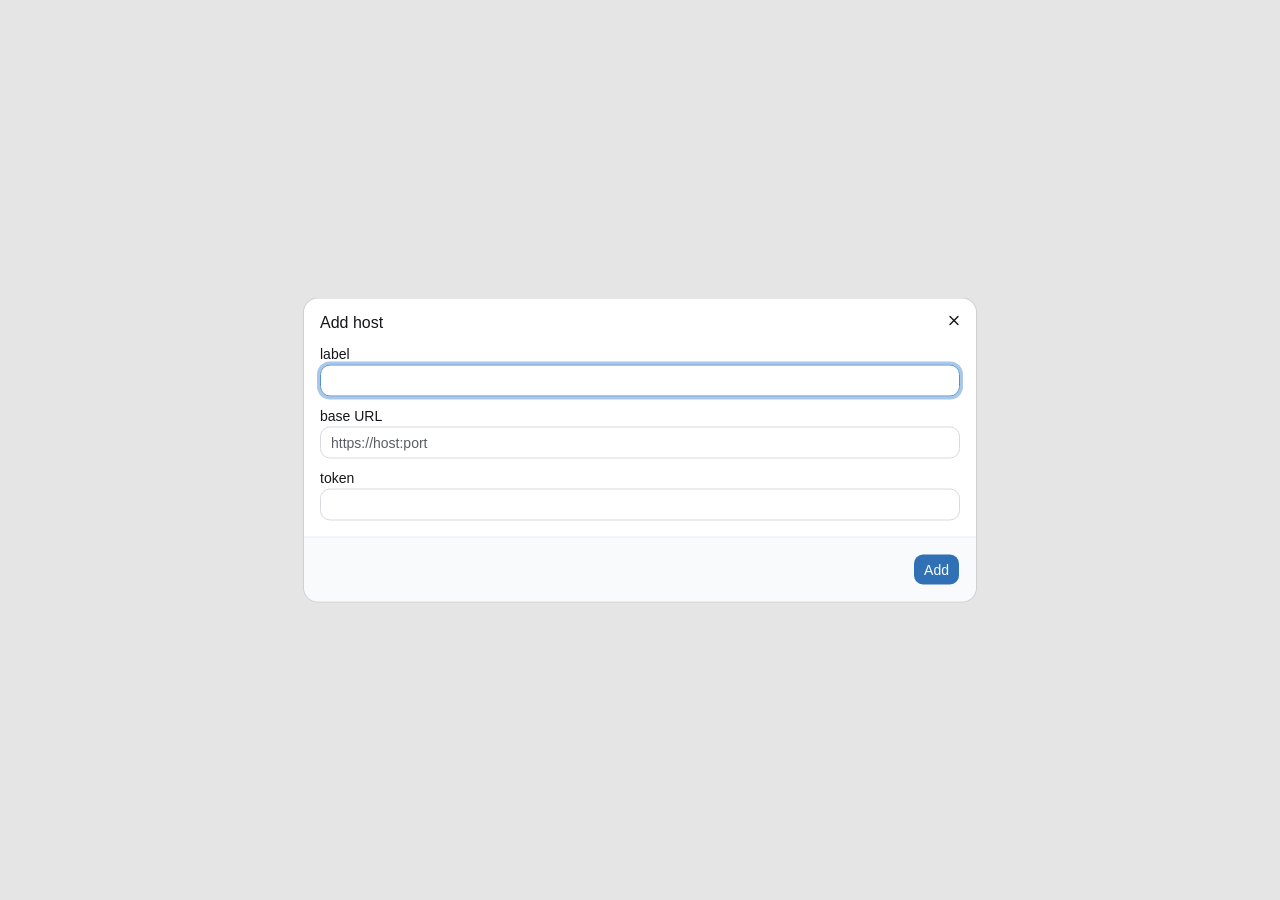
Test: ServerDialog › rejects an empty label and a non-http base URL
Click the button "Add": (937, 570) [913,554,960,586]
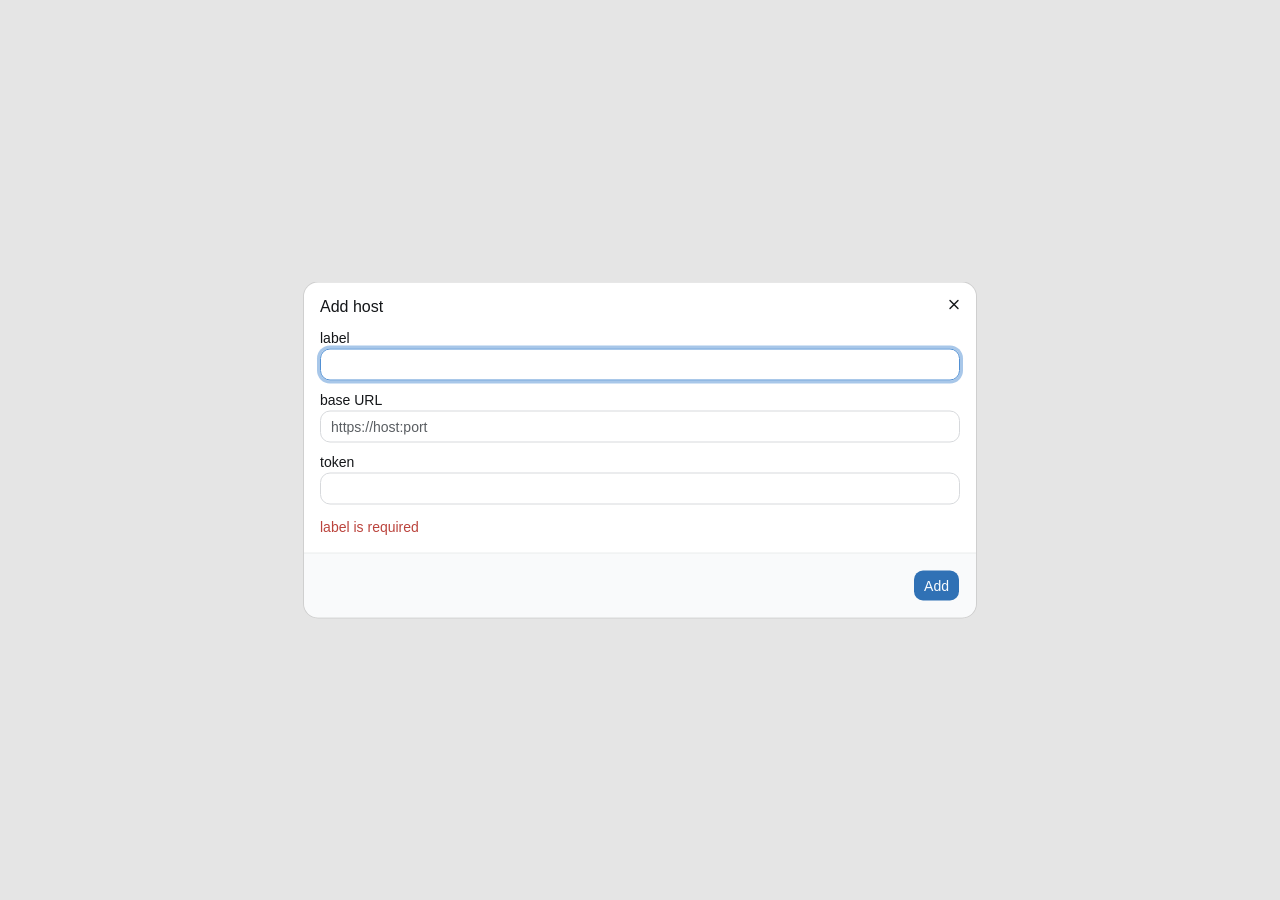
expect the text "label is required" is shown: met, box [320,518,419,534]
In the field labelled "label": (640, 364) [320,348,960,380], type "prod"
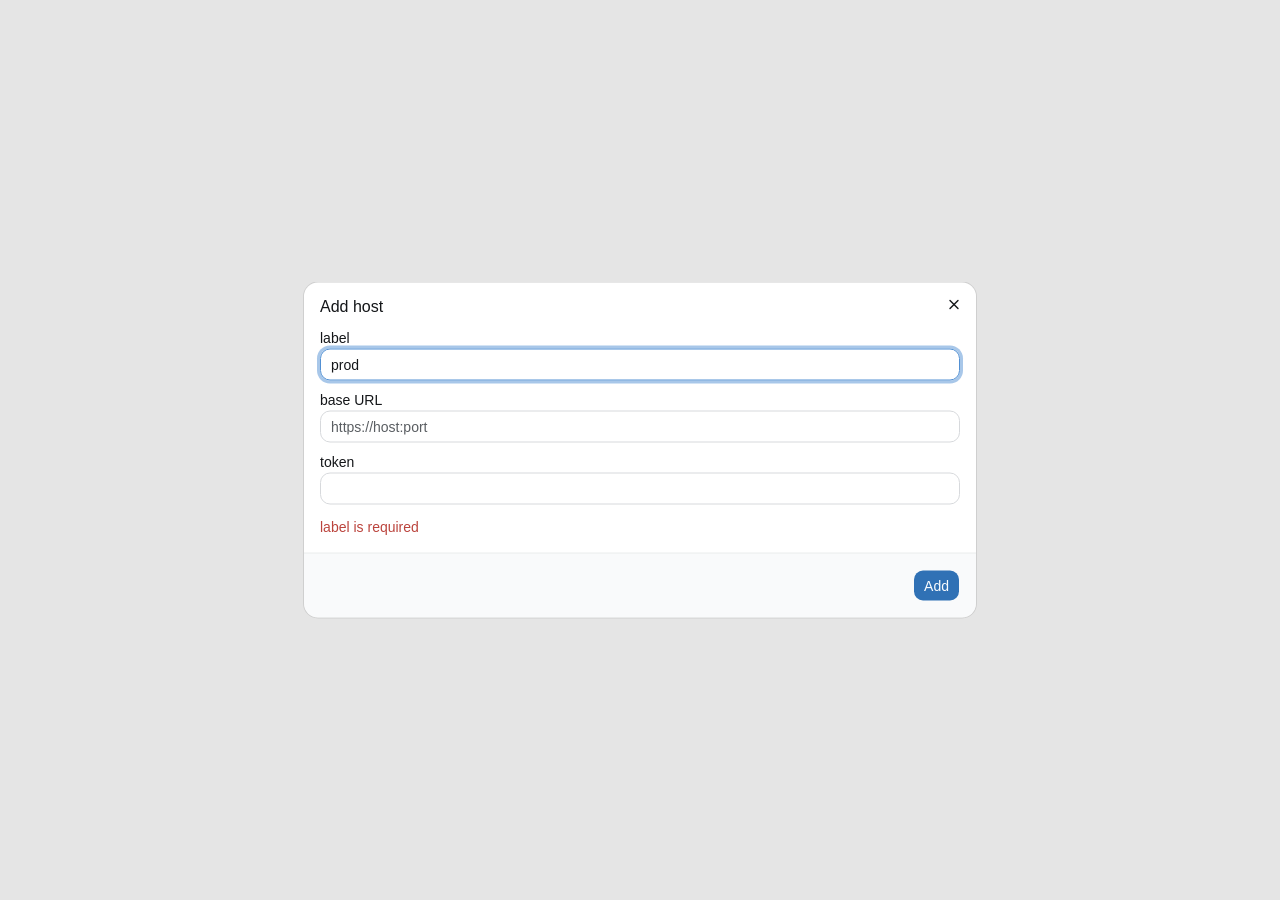
In the field labelled "base URL": (640, 426) [320,410,960,442], type "h:9990"
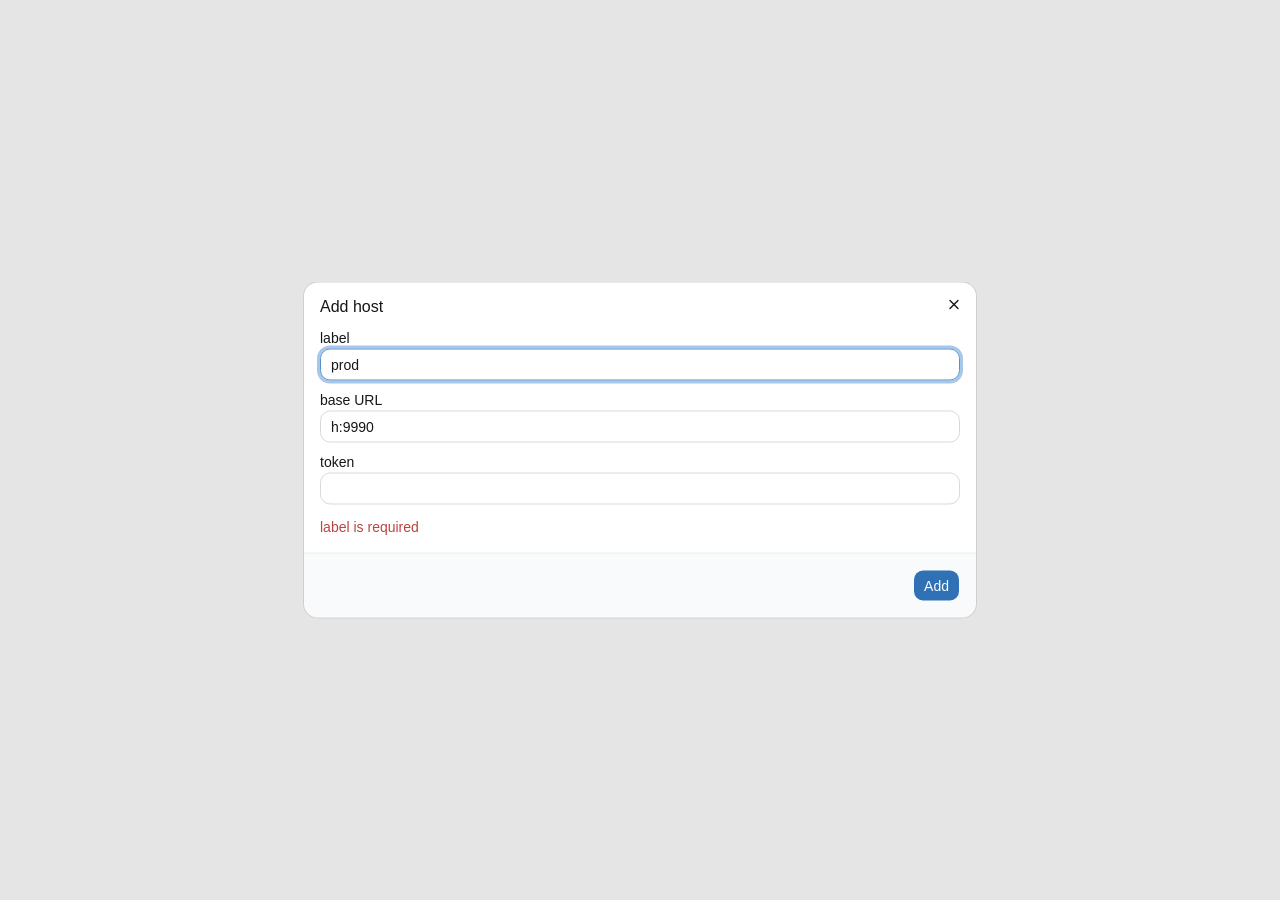
Click the button "Add": (937, 586) [913,570,960,602]
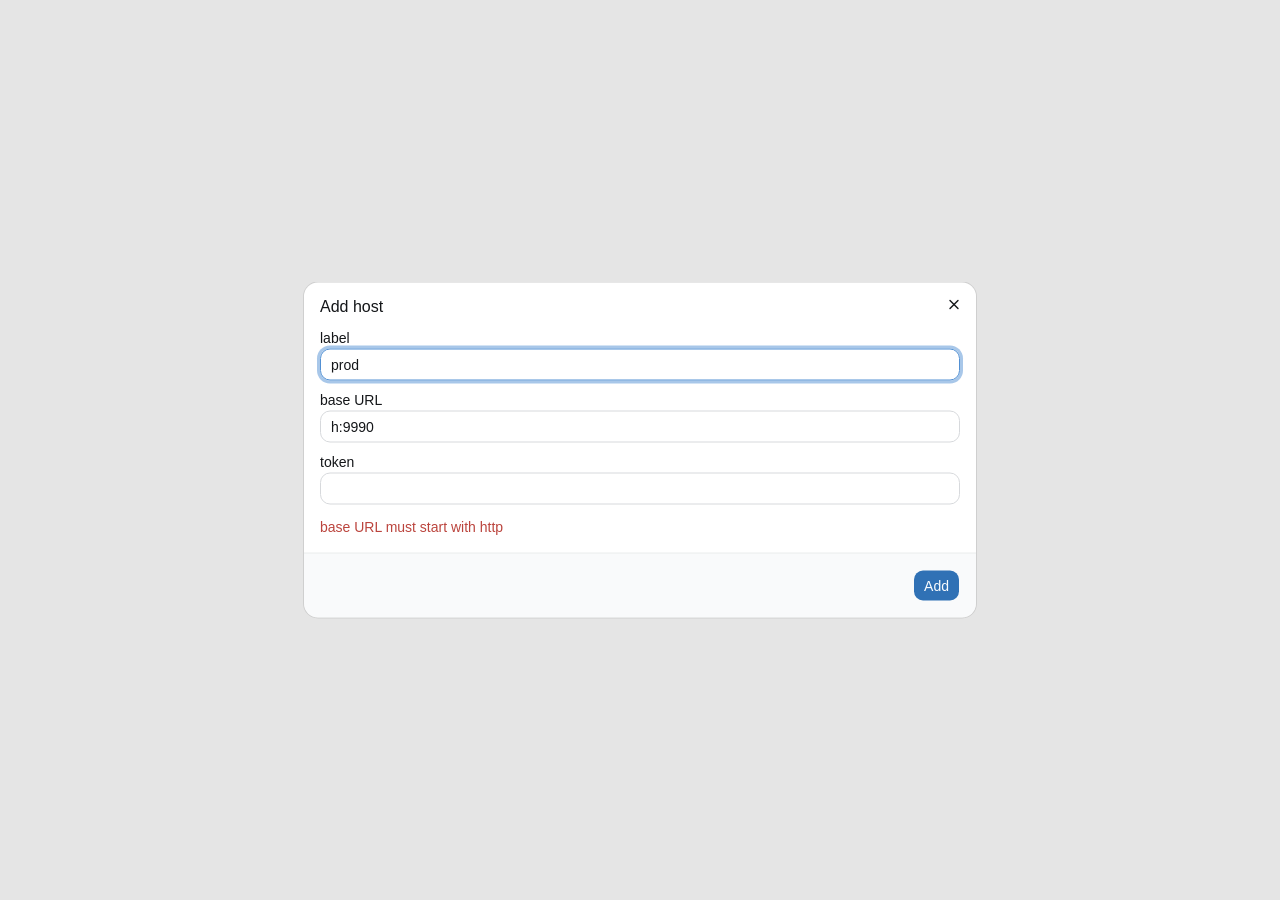
expect the text "base URL must start with http" is shown: met, box [320,518,503,534]
